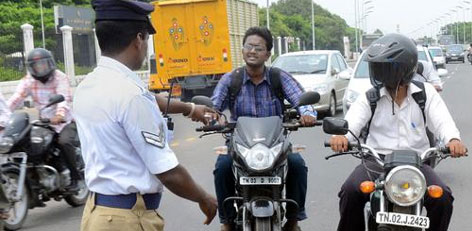helmet: (364, 33, 417, 88), (24, 47, 57, 79)
